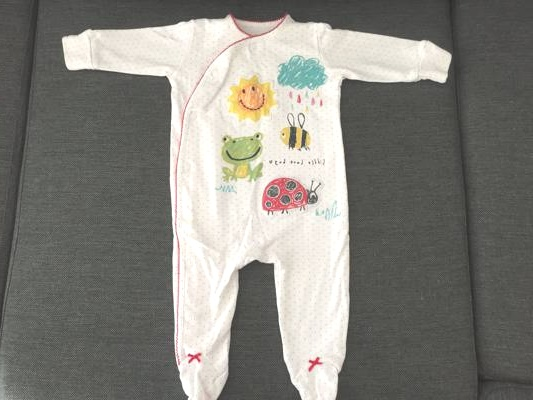Body: (51, 7, 464, 397)
